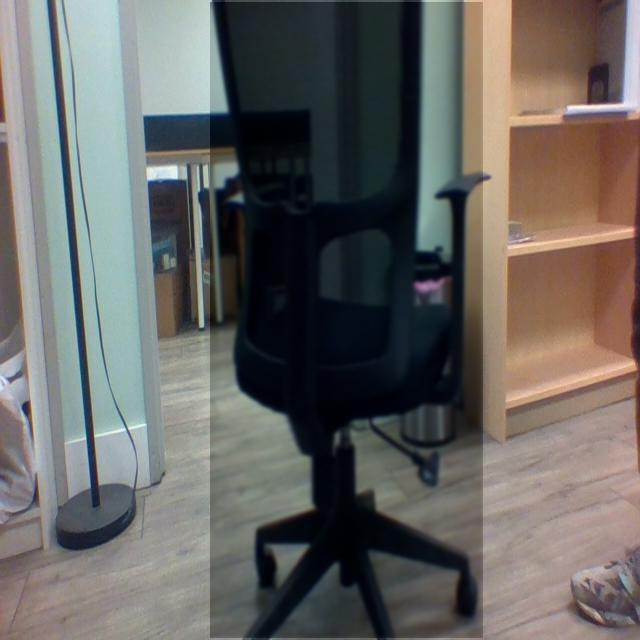chair: (211, 1, 485, 638)
